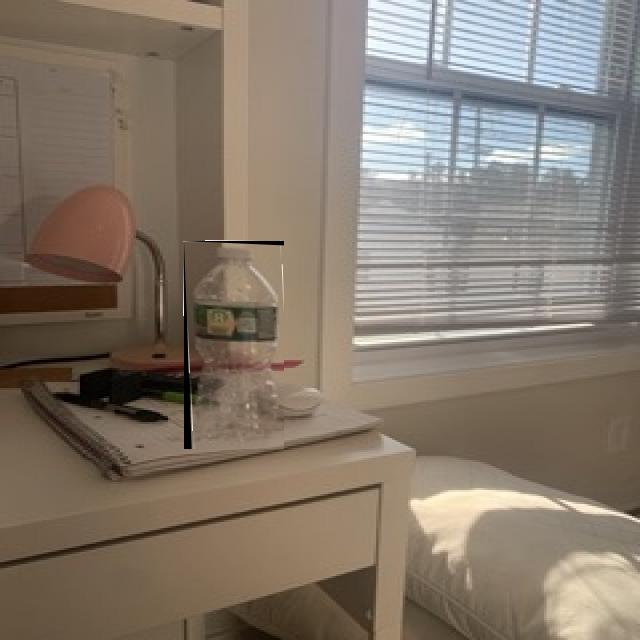water_bottle: (184, 241, 284, 449)
